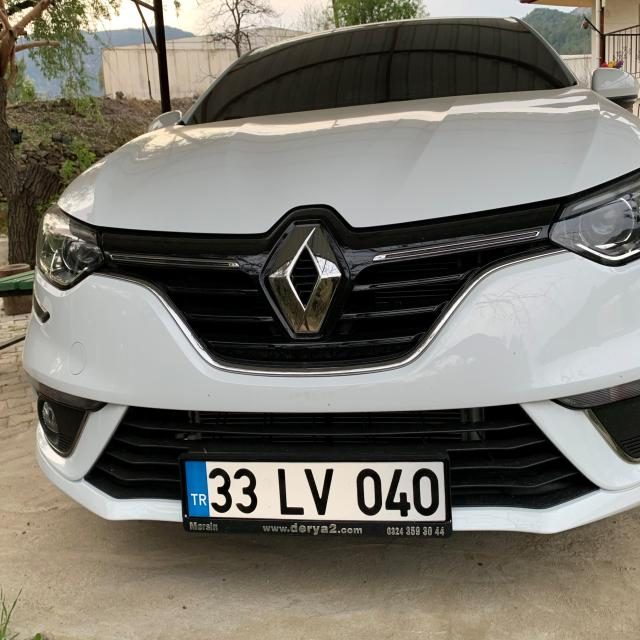license_plate: (181, 457, 448, 523)
